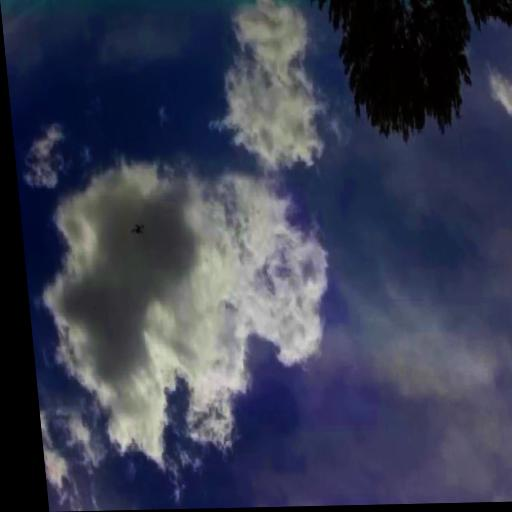drones: (129, 221, 148, 239)
